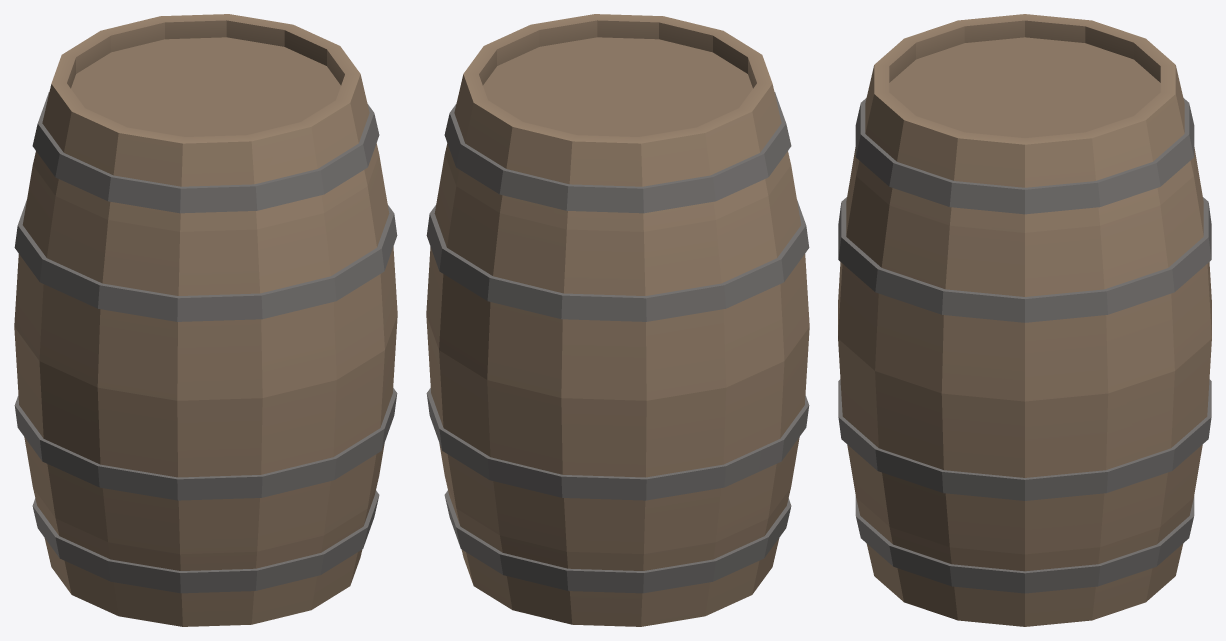
File: SM_BM_BP_Barrel.glb
The picture shows the model from 3 angles, left to right: view 1: azimuth 30°, elevation 25°; view 2: azimuth 150°, elevation 25°; view 3: azimuth 270°, elevation 25°; orthographic projection.
Parts seen in each view (by area): view 1: SM_BM_BP_Barrel; view 2: SM_BM_BP_Barrel; view 3: SM_BM_BP_Barrel.
Part boxes in pixels (x1,y1,x2,y2): SM_BM_BP_Barrel: [14, 14, 397, 626]; SM_BM_BP_Barrel: [426, 14, 809, 626]; SM_BM_BP_Barrel: [838, 14, 1211, 626].
Size of the model in its own units: 0.62 by 0.86 by 0.6045.
